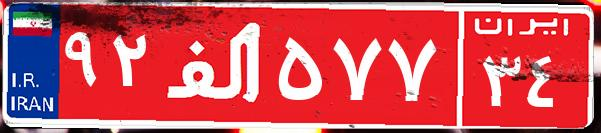2: (110, 28, 158, 105)
3: (475, 38, 525, 113)
4: (525, 38, 570, 115)
5: (273, 28, 330, 110)
7: (385, 28, 445, 110), (330, 28, 385, 110)
9: (57, 26, 110, 107)
الف: (158, 15, 273, 115)
